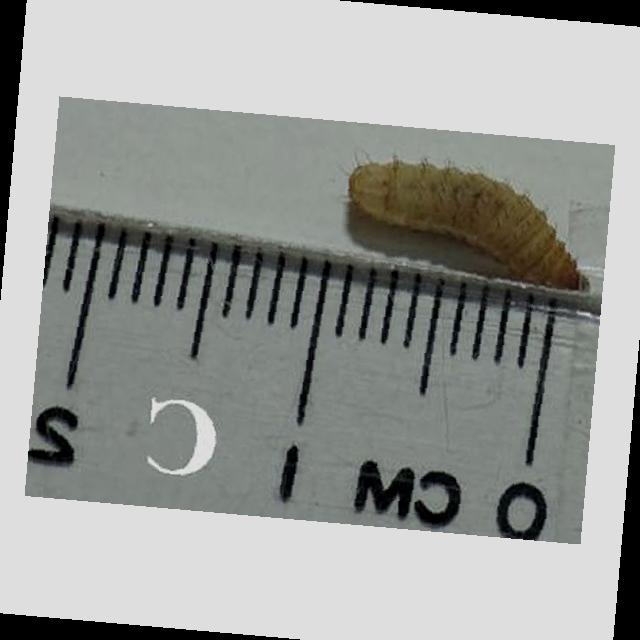Maggot: (341, 155, 598, 304)
